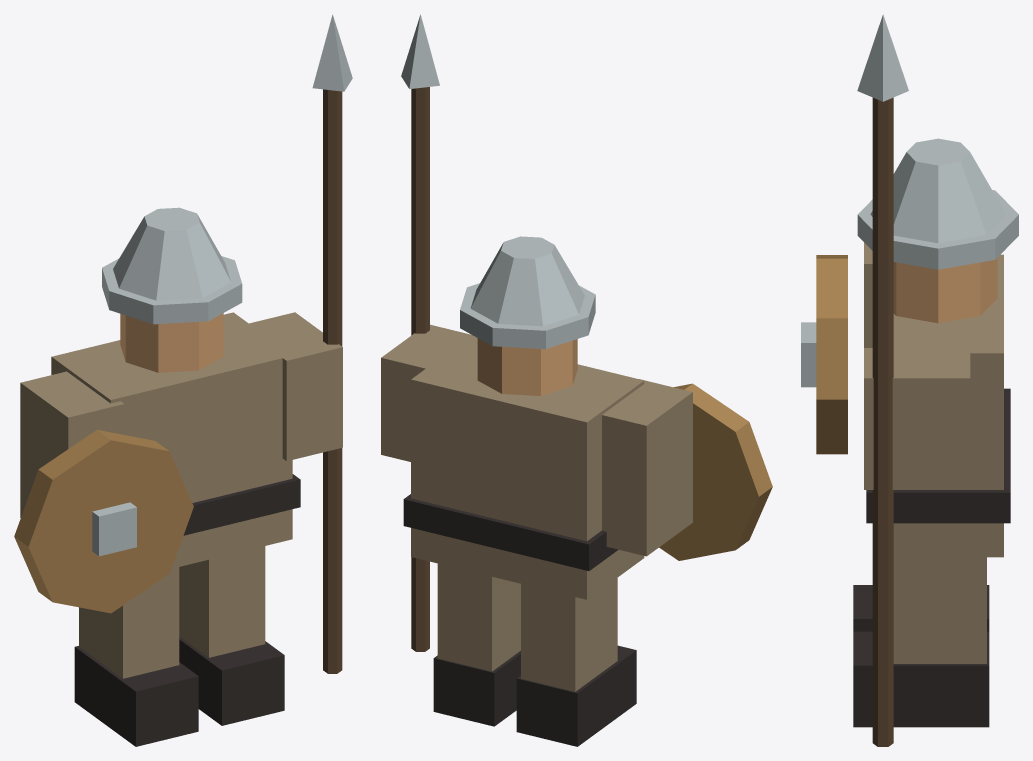
File: infantry.glb
3 views of the same model, side by side, from view 1: azimuth 30°, elevation 25°; view 2: azimuth 150°, elevation 25°; view 3: azimuth 270°, elevation 25° (orthographic). The views are drawn at different scales.
Visible parts, largest first — view 1: Infantry; view 2: Infantry; view 3: Infantry.
Boxes of the visible parts, x1,y1,x2,y2 form: Infantry: (14,14,352,746); Infantry: (381,14,772,746); Infantry: (801,14,1018,746).
Bounding box in the file's own units: 1.07 × 1.94 × 0.5135.
1 material, 1 textured.
